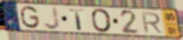2: (120, 9, 140, 35)
G: (20, 5, 41, 30)
J: (43, 6, 62, 31)
O: (90, 8, 113, 33)
R: (140, 12, 164, 35)
T: (68, 8, 86, 32)
